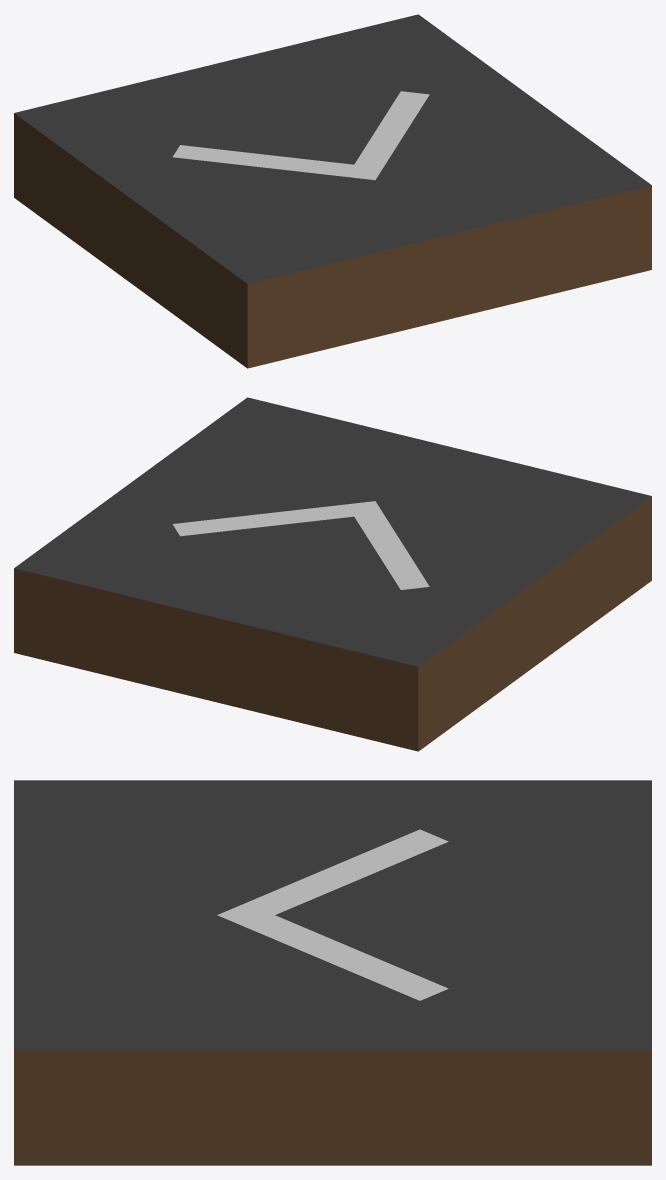
The model's file is road_1_arrow_1.fbx.
3 renders of one model, top to bottom at view 1: azimuth 30°, elevation 25°; view 2: azimuth 150°, elevation 25°; view 3: azimuth 270°, elevation 25°, orthographic. The views are drawn at different scales.
Visible parts, largest first — view 1: Cube.050; view 2: Cube.050; view 3: Cube.050.
Boxes of the visible parts, <box> form: Cube.050: <box>14,14,651,368</box>; Cube.050: <box>14,397,651,751</box>; Cube.050: <box>14,780,651,1165</box>.
Size of the model in its own units: 1000 by 200 by 1000.
1 material, 1 textured.
